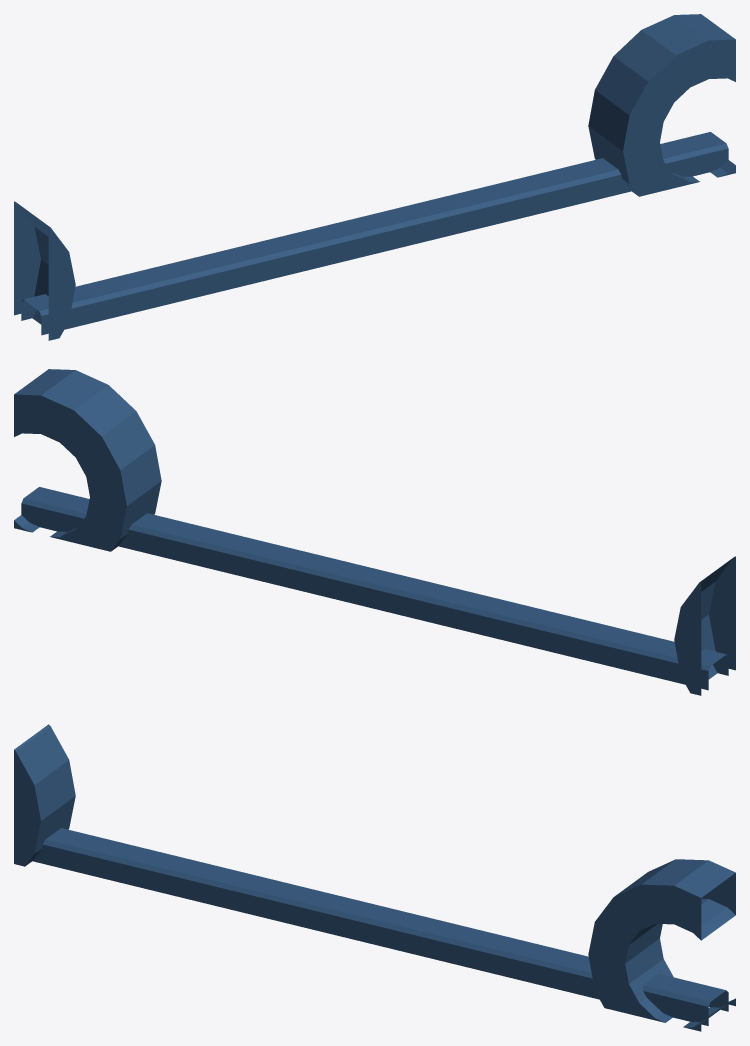
File: cell_54.obj
3 views of the same model, one above another, from view 1: azimuth 30°, elevation 25°; view 2: azimuth 150°, elevation 25°; view 3: azimuth 330°, elevation 25° (orthographic).
Size of the model in its own units: 1 by 0.1937 by 0.0875.
